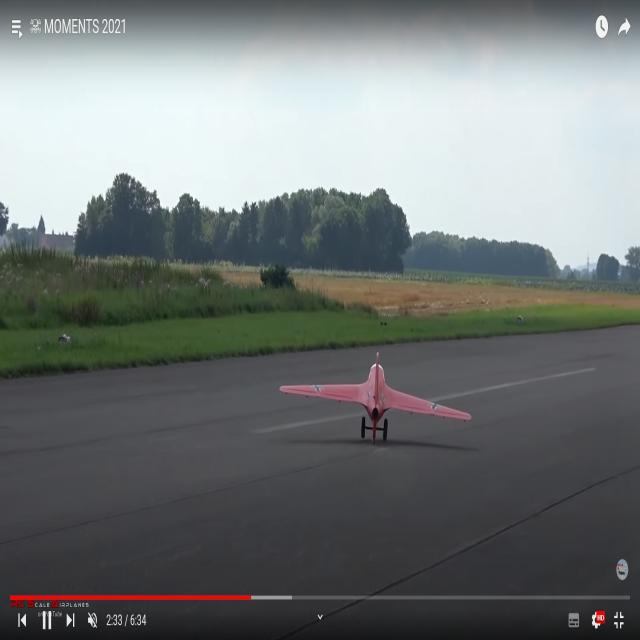iha: (279, 377, 471, 403)
